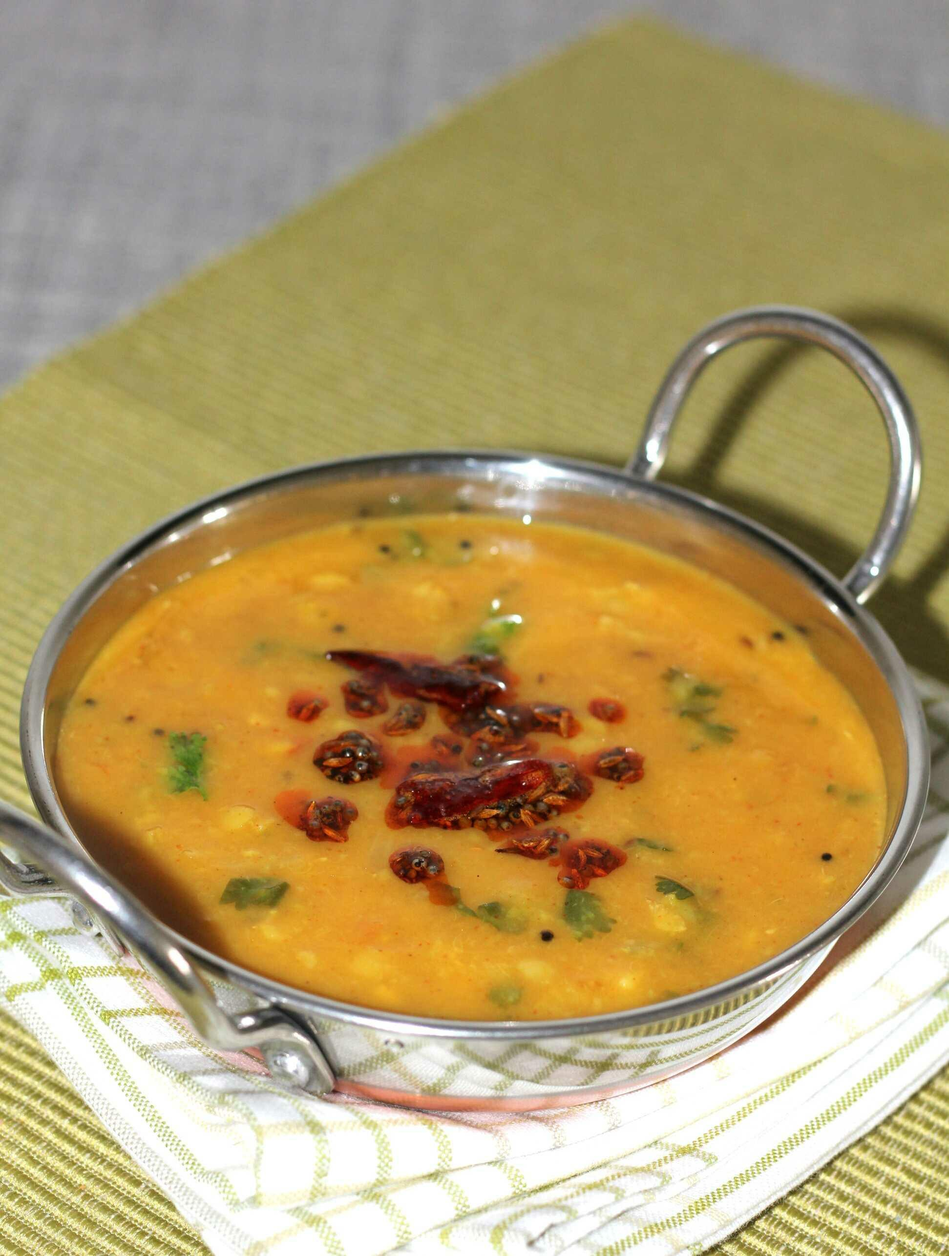Dal: (59, 508, 881, 1018)
